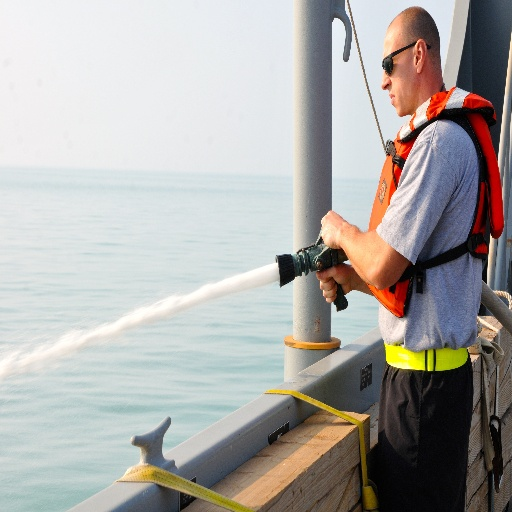hand: (315, 259, 352, 304), (319, 207, 345, 250)
